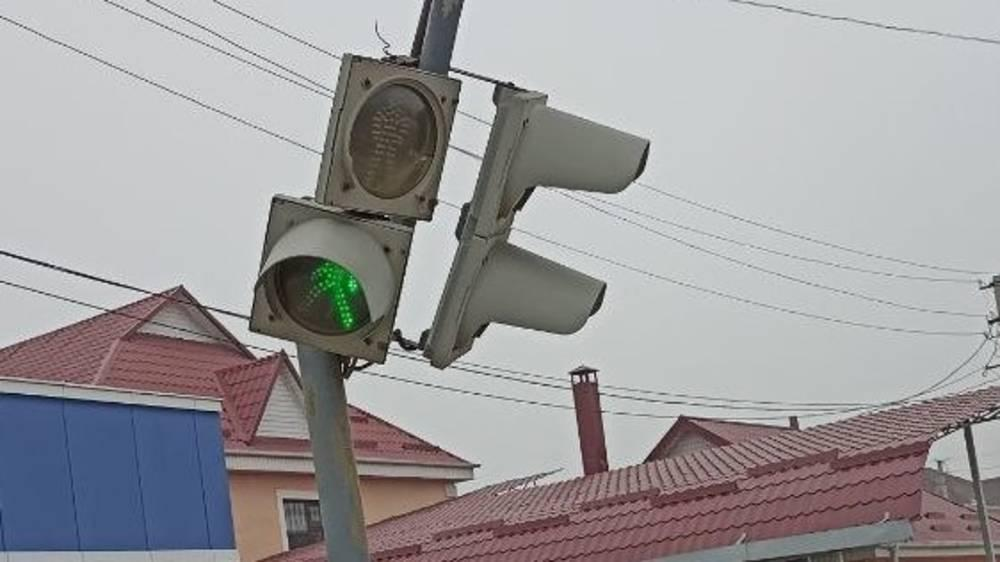off traffic light: (249, 56, 459, 377), (419, 84, 649, 369)
